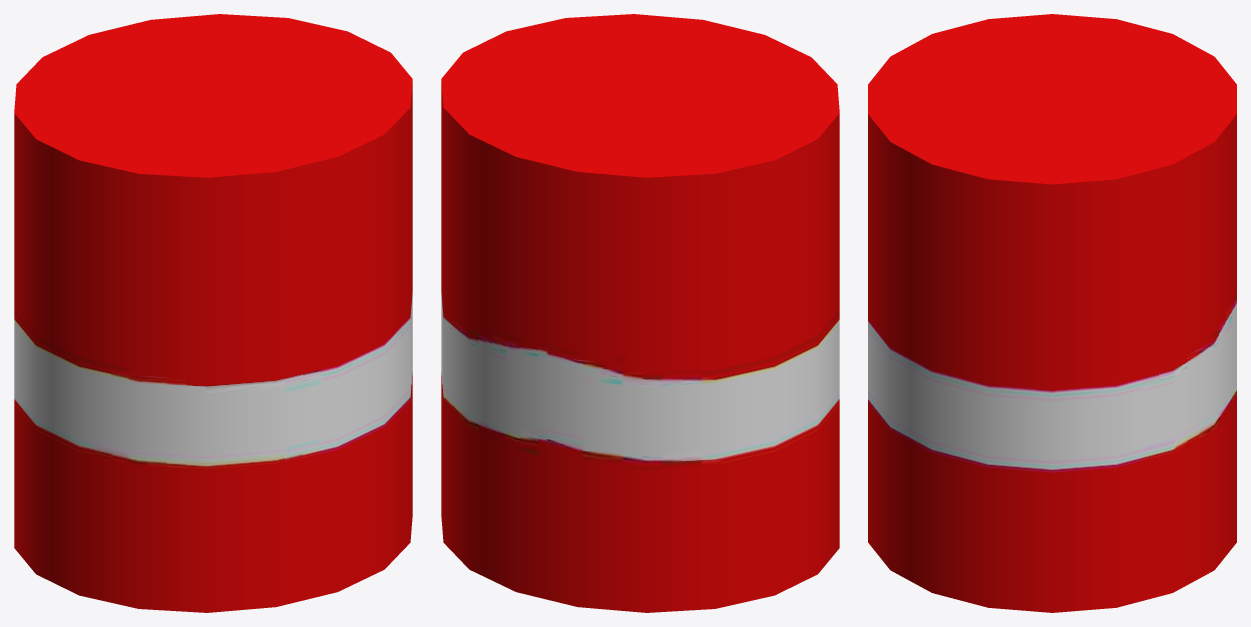
Rendered from Big_rad.FBX.
3 renders of one model, left to right at view 1: azimuth 30°, elevation 25°; view 2: azimuth 150°, elevation 25°; view 3: azimuth 270°, elevation 25°, orthographic.
Parts seen in each view (by area): view 1: Cylinder011; view 2: Cylinder011; view 3: Cylinder011.
Part boxes in pixels (left/top/right/bottom): Cylinder011: left=14, top=14, right=412, bottom=612; Cylinder011: left=441, top=14, right=839, bottom=612; Cylinder011: left=868, top=14, right=1236, bottom=612.
Bounding box in the file's own units: 10.1 × 9.23 × 11.83.
1 material, 1 textured.
